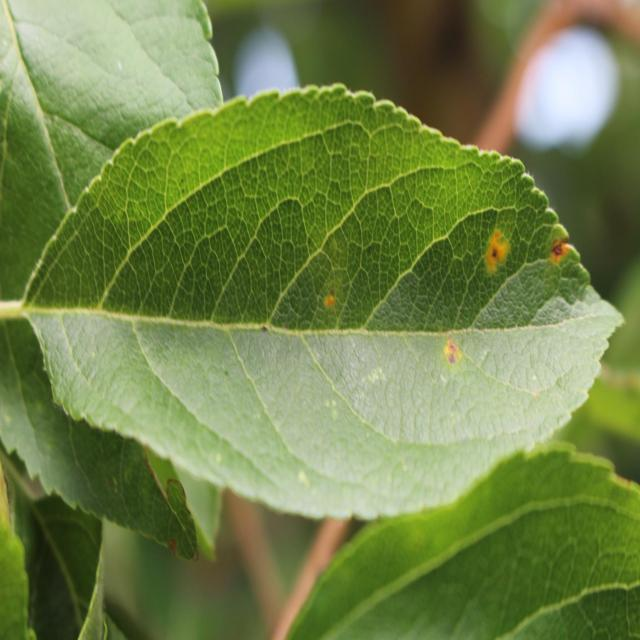Rust: (481, 210, 516, 298), (538, 215, 580, 277), (300, 282, 352, 312), (443, 332, 464, 384)
